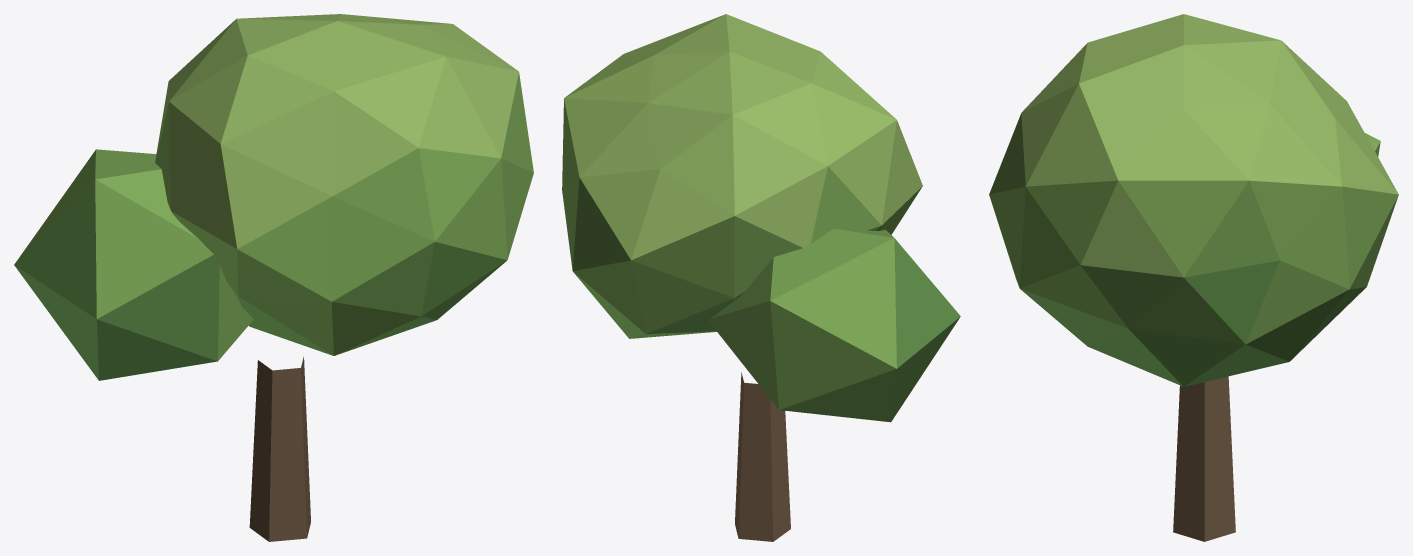
File: low_tree_twin.glb
3 renders of one model, left to right at view 1: azimuth 30°, elevation 25°; view 2: azimuth 150°, elevation 25°; view 3: azimuth 270°, elevation 25°, orthographic. The views are drawn at different scales.
Parts seen in each view (by area): view 1: low_tree_twin; view 2: low_tree_twin; view 3: low_tree_twin.
Part boxes in pixels (x1,y1,x2,y2): low_tree_twin: (14,14,533,541); low_tree_twin: (562,14,960,541); low_tree_twin: (989,14,1398,541).
Size of the model in its own units: 2.37 by 2.7 by 1.99.
